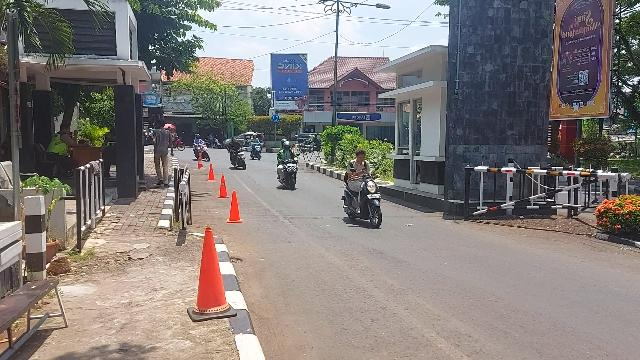helm: (285, 142, 292, 150), (282, 139, 288, 147)
motor: (341, 166, 385, 230), (278, 155, 302, 192), (229, 145, 247, 172), (250, 141, 264, 161)
non-helm: (357, 150, 368, 164), (254, 134, 259, 140), (233, 137, 238, 143)
